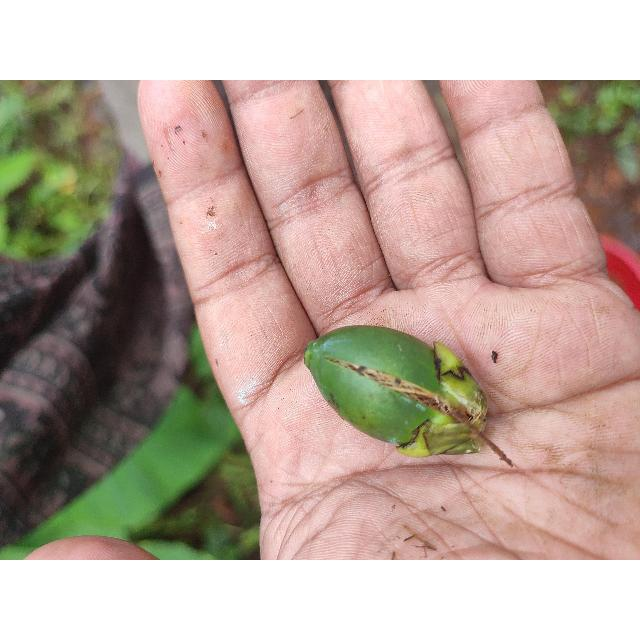damaged: (301, 326, 489, 460)
